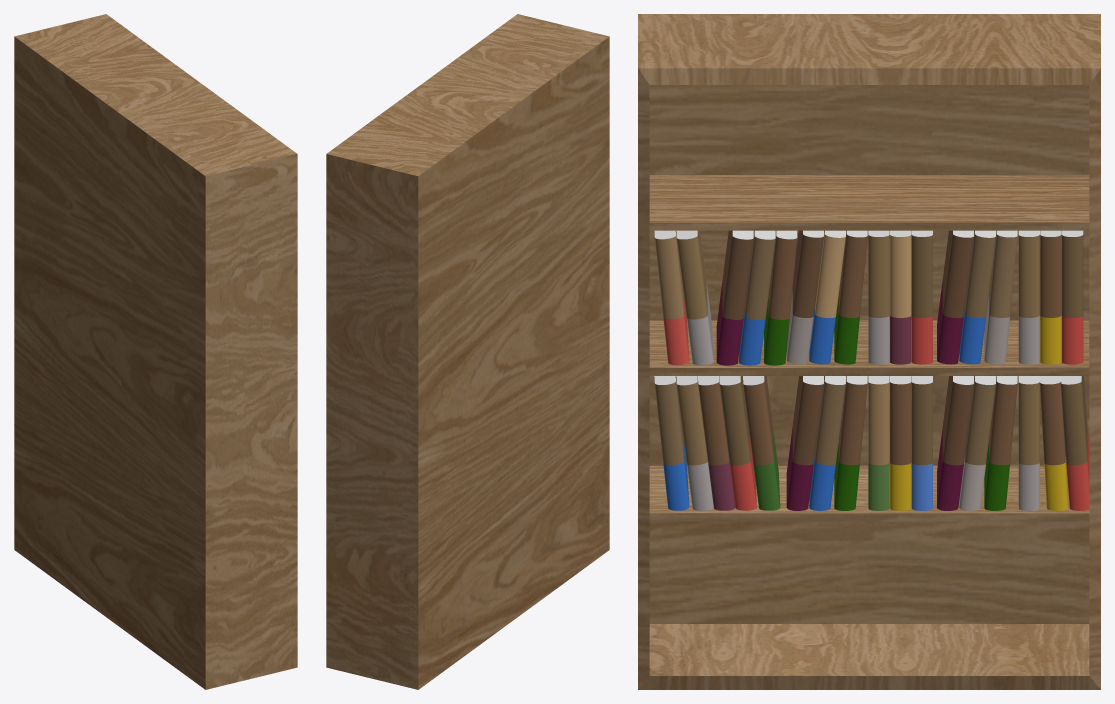
The model's file is bookshelf.gltf.
3 views of the same model, side by side, from view 1: azimuth 30°, elevation 25°; view 2: azimuth 150°, elevation 25°; view 3: azimuth 270°, elevation 25° (orthographic). The views are drawn at different scales.
Parts seen in each view (by area): view 1: Cube.035; view 2: Cube.035; view 3: Cube.035, Cube.026, Cube.012, Cube.006, Cube.019, Cube.013, Cube.033, Cube.032, Cube.031, Cube.028, Cube.001, Cube.004 (+23 smaller).
Boxes of the visible parts, left/top/right/bottom form: Cube.035: left=14, top=14, right=297, bottom=689; Cube.035: left=326, top=14, right=609, bottom=689; Cube.035: left=638, top=14, right=1100, bottom=689; Cube.026: left=716, top=230, right=753, bottom=365; Cube.012: left=786, top=376, right=823, bottom=510; Cube.006: left=937, top=376, right=973, bottom=510; Cube.019: left=937, top=230, right=973, bottom=364; Cube.013: left=786, top=230, right=823, bottom=364; Cube.033: left=676, top=230, right=713, bottom=365; Cube.032: left=743, top=376, right=780, bottom=510; Cube.031: left=719, top=376, right=756, bottom=510; Cube.028: left=764, top=230, right=797, bottom=365; Cube.001: left=1061, top=376, right=1089, bottom=510; Cube.004: left=984, top=376, right=1017, bottom=510.
Size of the model in its own units: 1.64 by 8.55 by 5.77.
